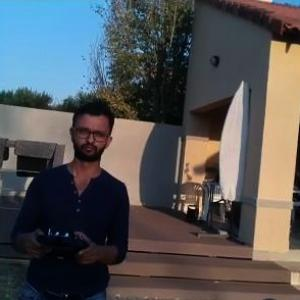follow: (9, 96, 139, 299)
